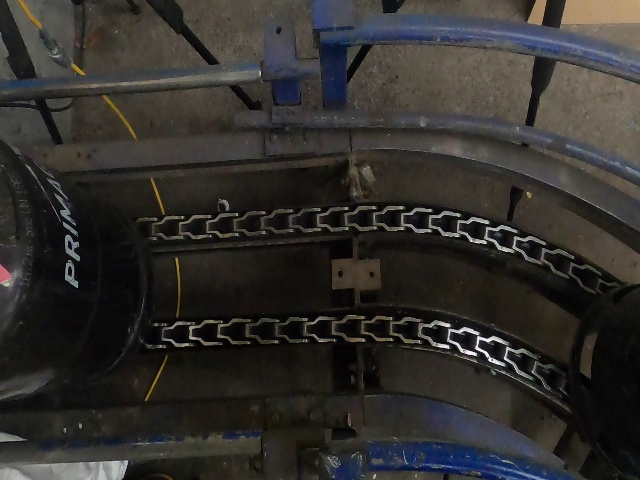gas_bottle: (4, 1, 637, 479)
